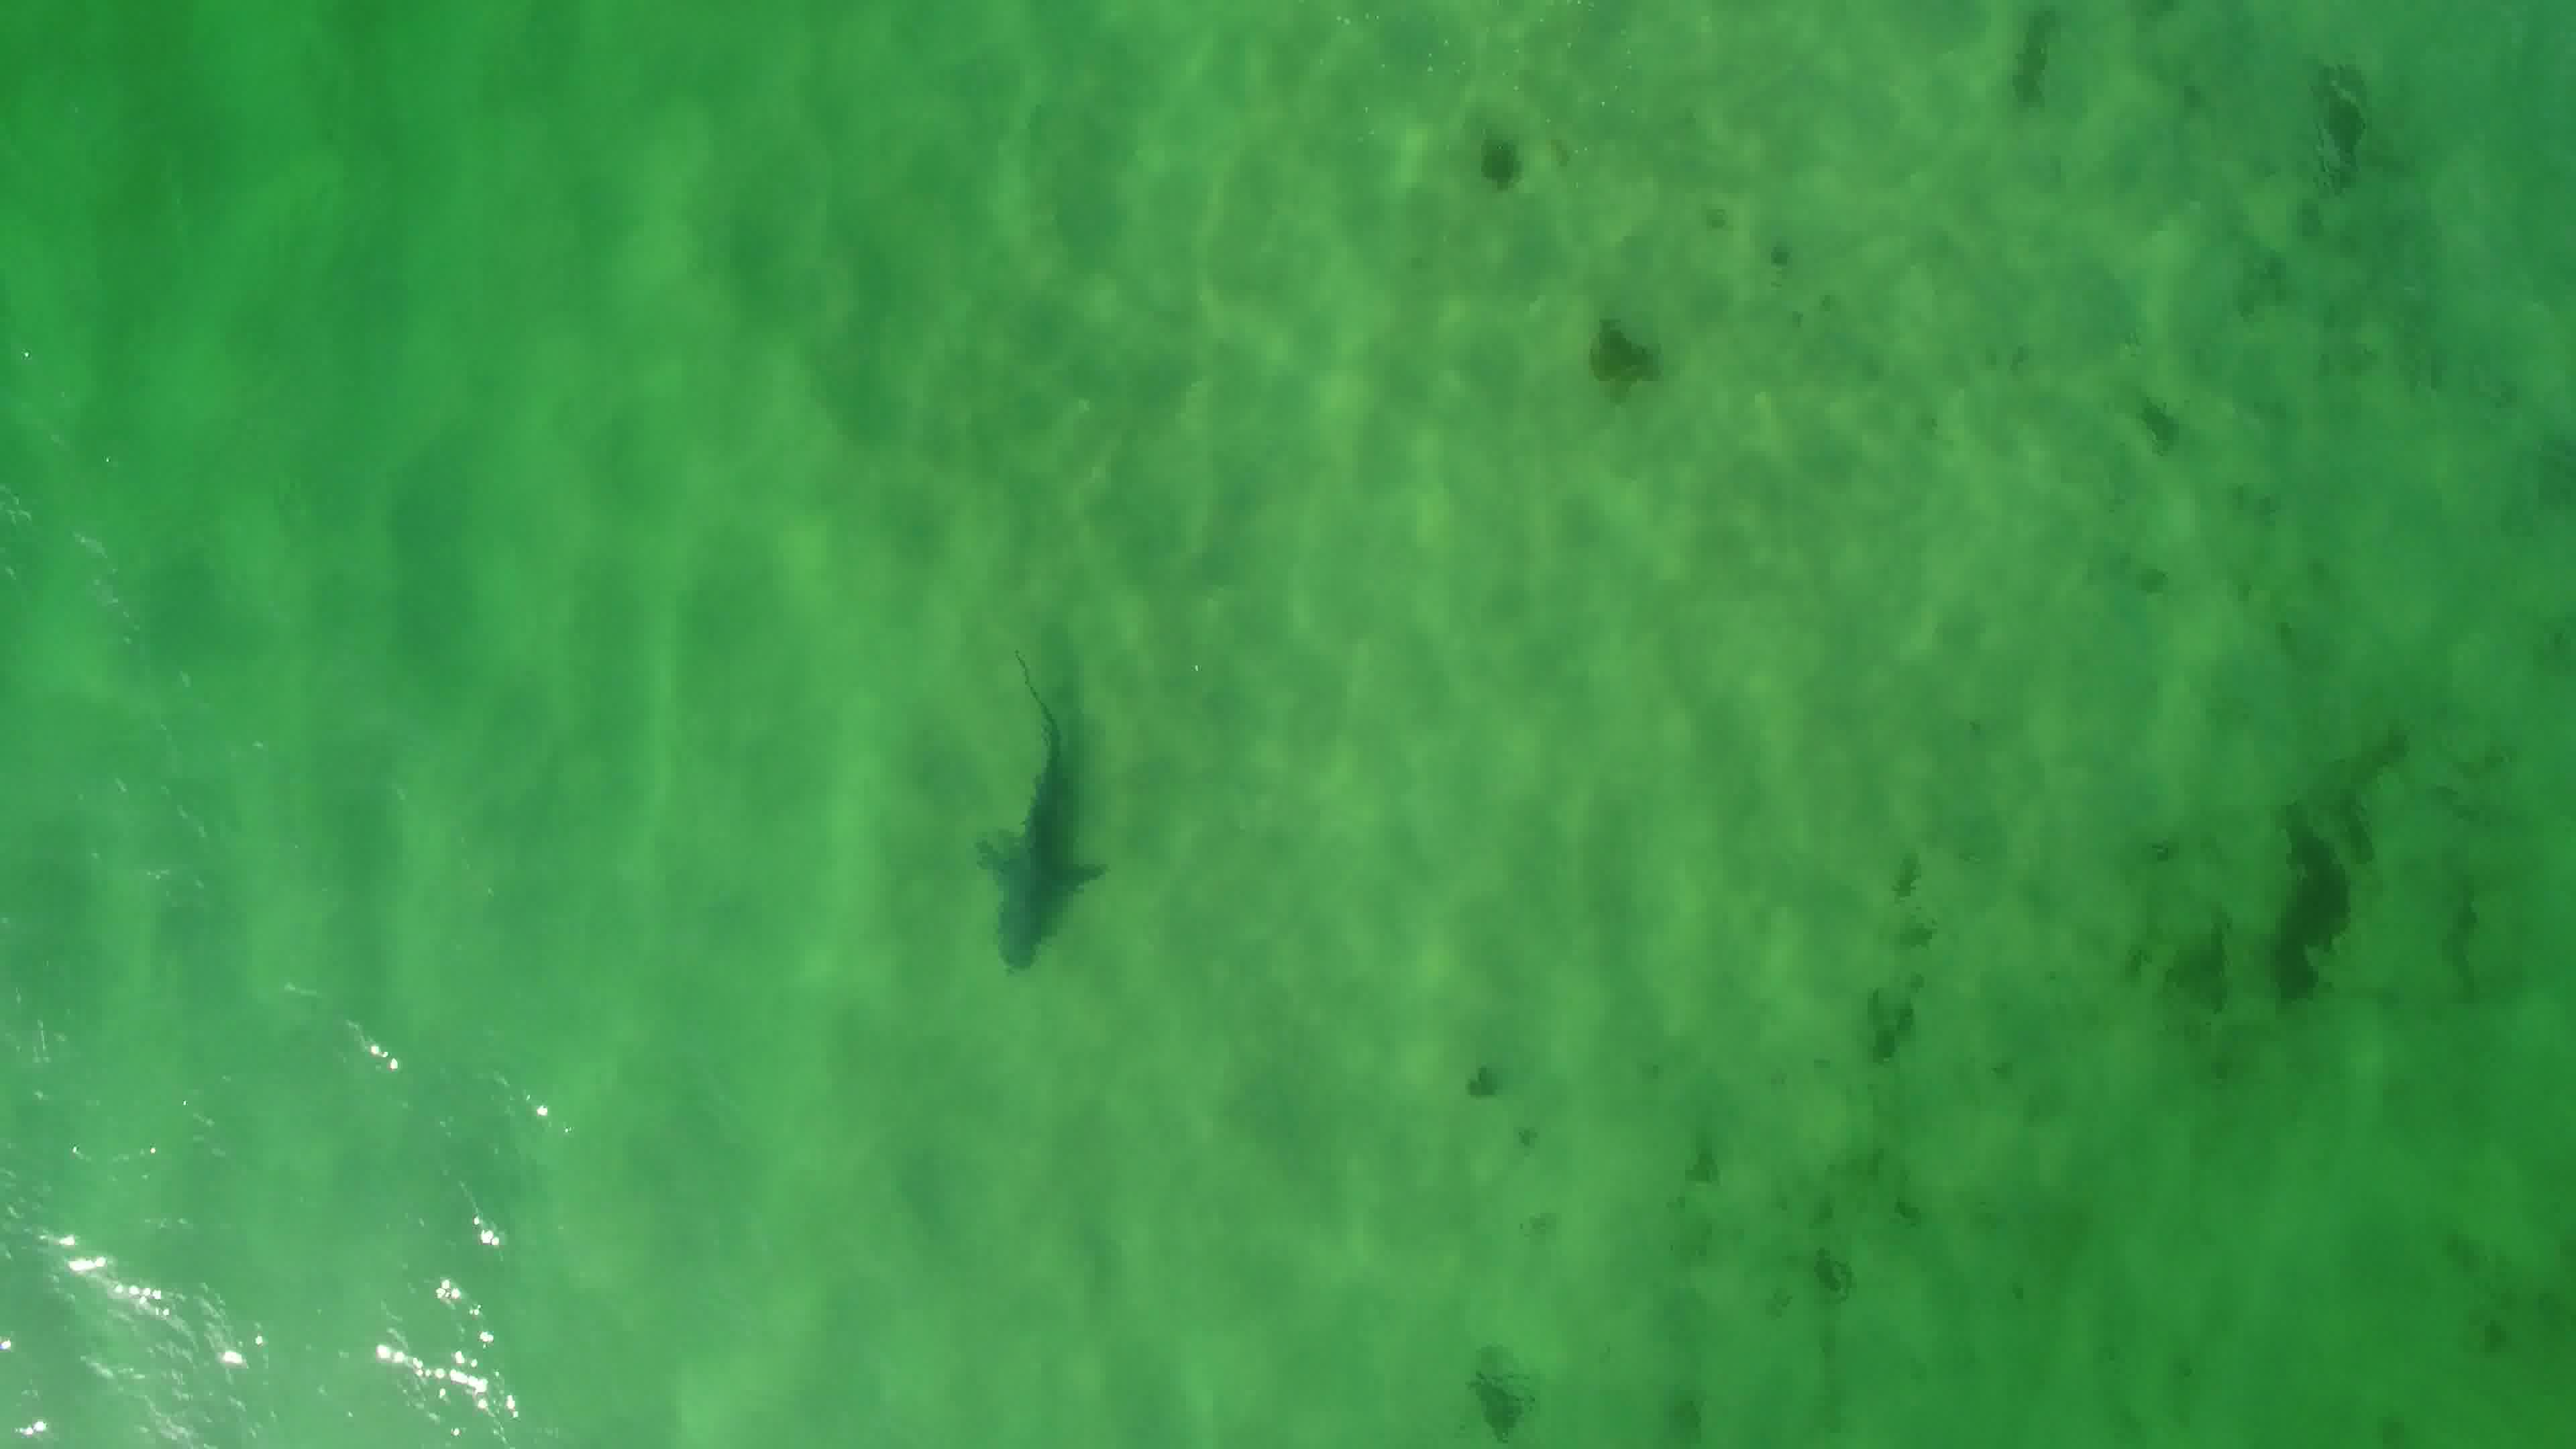shark: (959, 640, 1113, 975)
